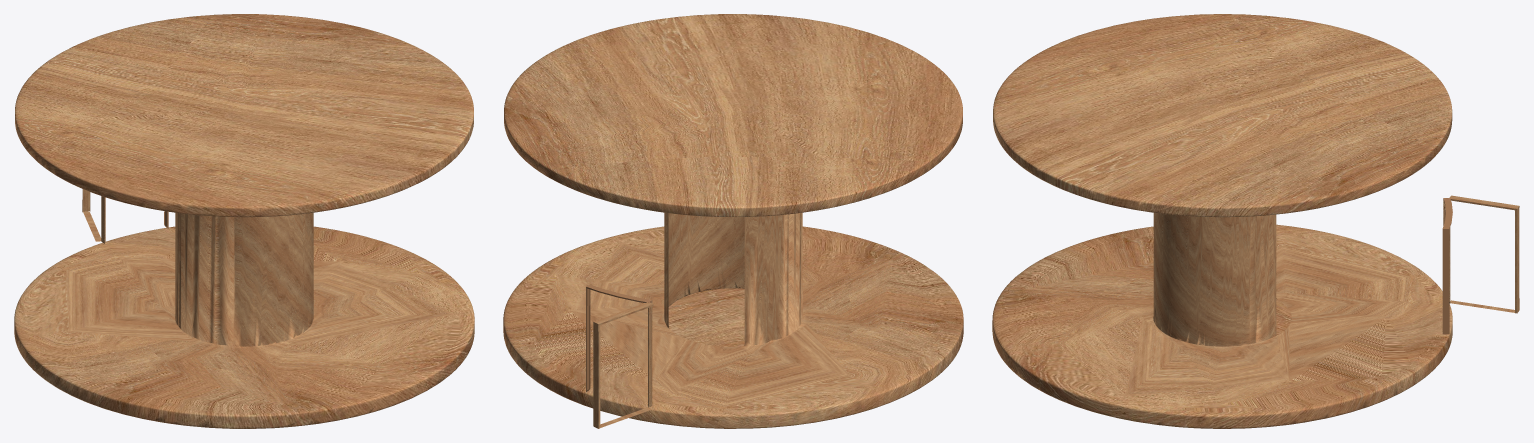
Rendered from civciv_kafesi.glb.
The picture shows the model from 3 angles, left to right: view 1: azimuth 30°, elevation 25°; view 2: azimuth 150°, elevation 25°; view 3: azimuth 270°, elevation 25°; orthographic projection.
Parts seen in each view (by area): view 1: Table_1; view 2: Table_1, Door.002_3, Door _5; view 3: Table_1, Door _5, Door.002_3.
Part boxes in pixels (x1=…): Table_1: x1=14, y1=14, x2=474, y2=428; Table_1: x1=503, y1=14, x2=963, y2=428; Door.002_3: x1=593, y1=302, x2=653, y2=428; Door _5: x1=586, y1=284, x2=652, y2=407; Table_1: x1=992, y1=14, x2=1452, y2=428; Door _5: x1=1442, y1=198, x2=1452, y2=334; Door.002_3: x1=1449, y1=195, x2=1519, y2=313.
Bounding box in the file's own units: 7.7 × 4.13 × 8.82.
Materials: 1 (1 with a texture image).
